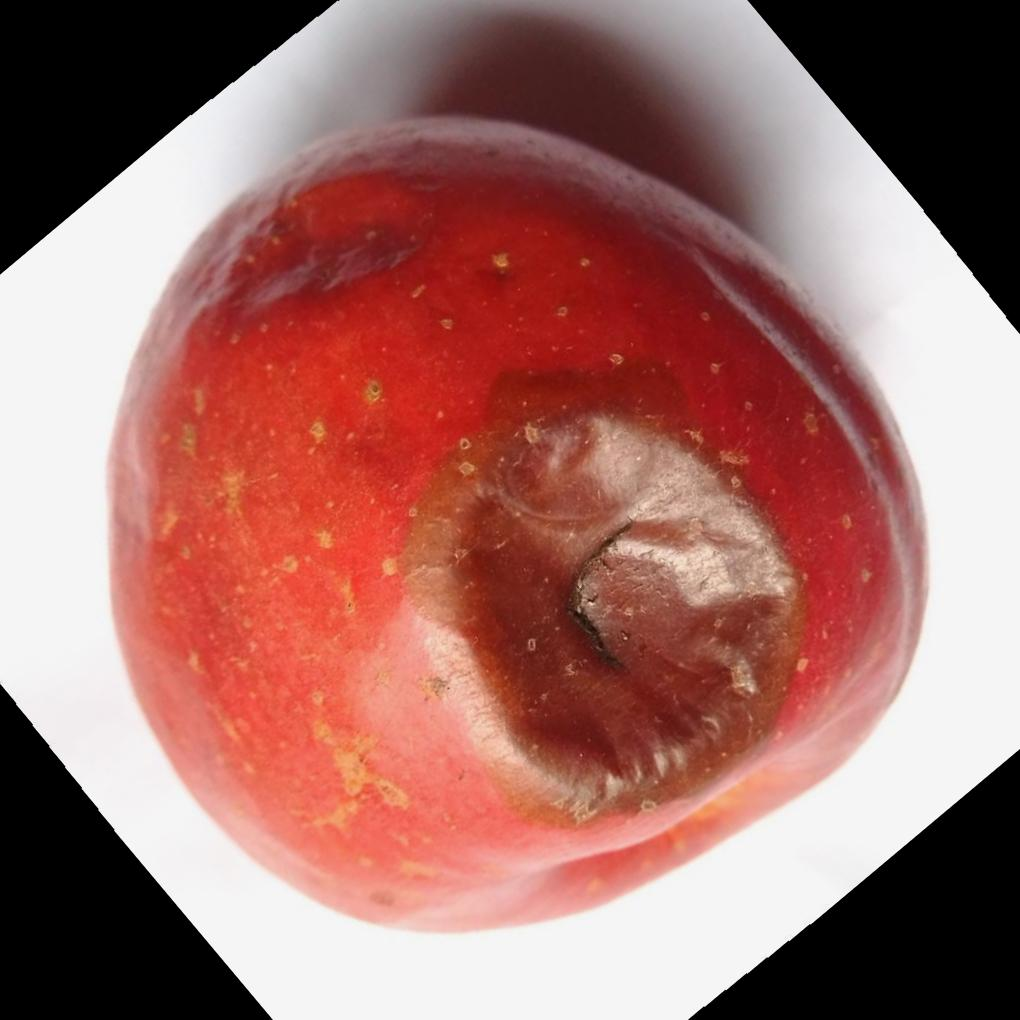FreshOrange: (103, 110, 923, 934)
